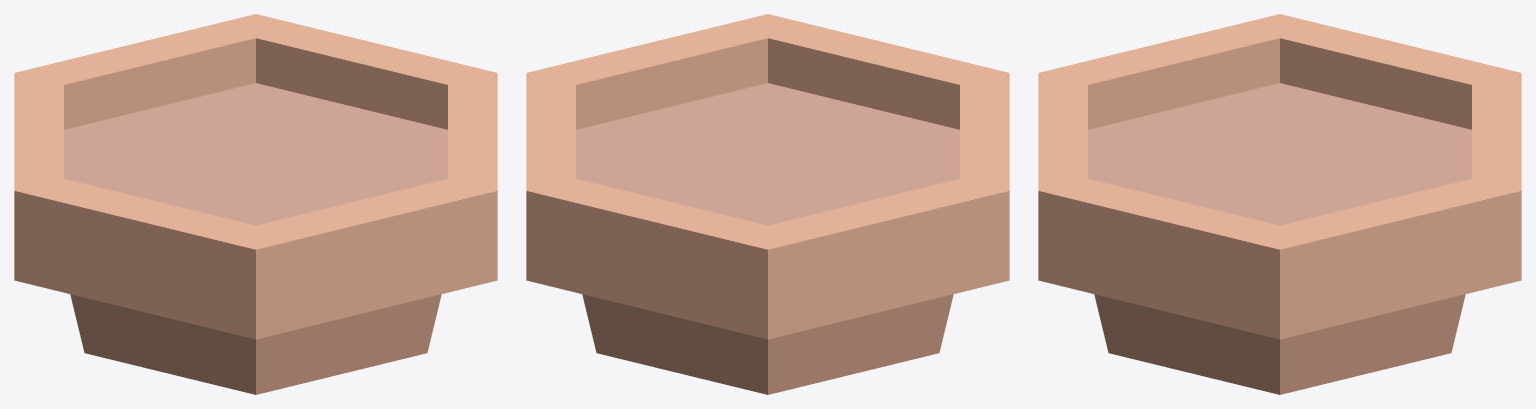
Rendered from pot_large.gltf.
The picture shows the model from 3 angles, left to right: view 1: azimuth 30°, elevation 25°; view 2: azimuth 150°, elevation 25°; view 3: azimuth 270°, elevation 25°; orthographic projection.
Visible parts, largest first — view 1: pot_large; view 2: pot_large; view 3: pot_large.
Boxes of the visible parts, <box> form: pot_large: <box>14,14,497,394</box>; pot_large: <box>526,14,1009,394</box>; pot_large: <box>1038,14,1521,394</box>.
Size of the model in its own units: 0.5636 by 0.2 by 0.4881.
